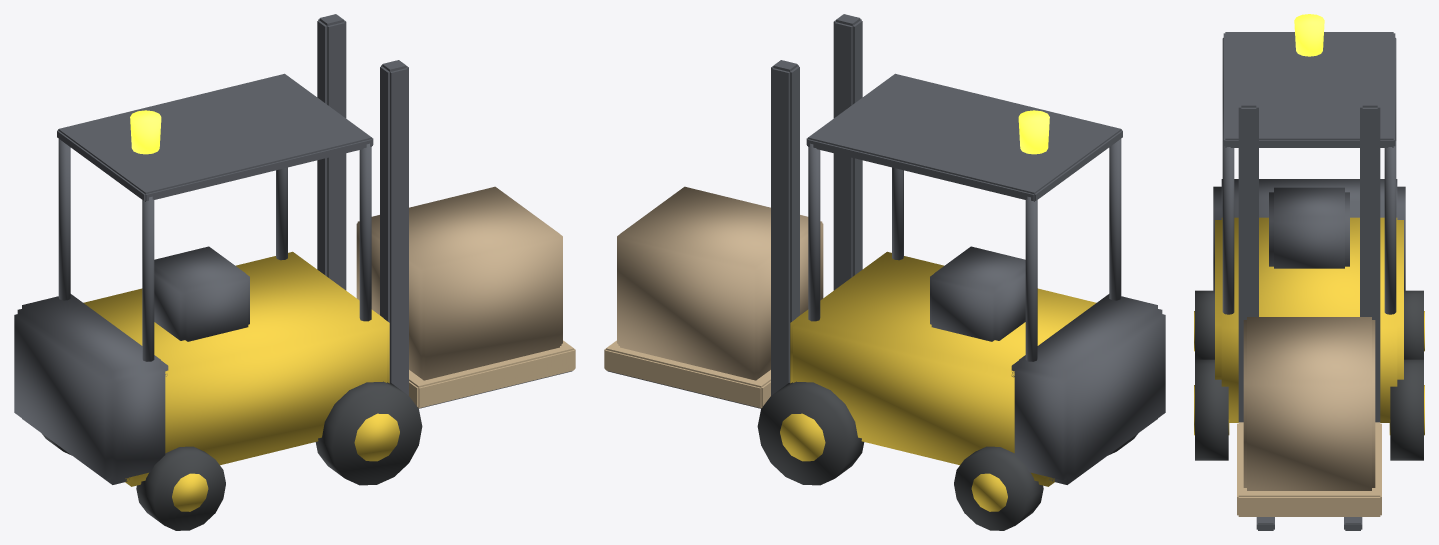
The model's file is ext_forklift.glb.
3 renders of one model, left to right at view 1: azimuth 30°, elevation 25°; view 2: azimuth 150°, elevation 25°; view 3: azimuth 270°, elevation 25°, orthographic. The views are drawn at different scales.
Visible parts, largest first — view 1: Forklift; view 2: Forklift; view 3: Forklift.
Part boxes in pixels (left/top/right/bottom): Forklift: left=14, top=14, right=575, bottom=530; Forklift: left=604, top=14, right=1165, bottom=530; Forklift: left=1194, top=14, right=1424, bottom=530.
Size of the model in its own units: 3.23 by 2.46 by 1.37.
